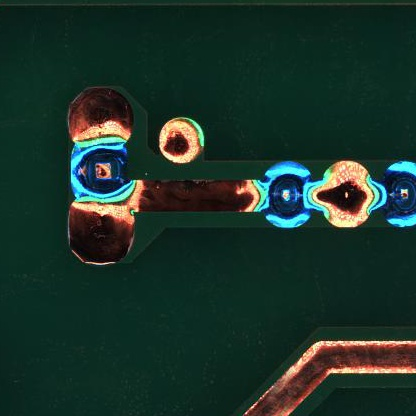spot: (68, 140, 130, 203), (260, 161, 311, 232), (383, 156, 416, 230)
